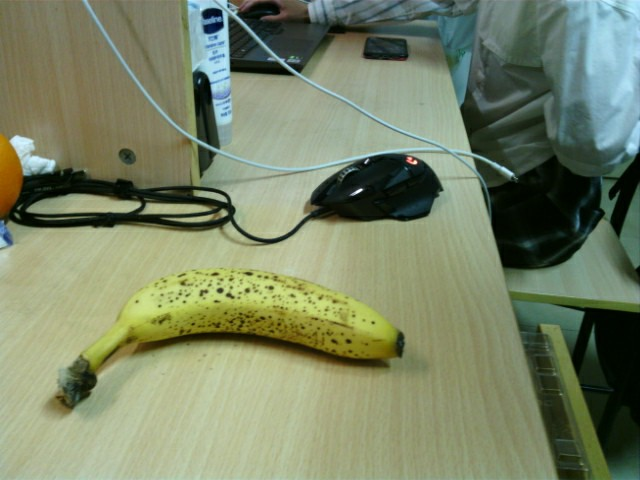normal_banana: (59, 268, 405, 416)
